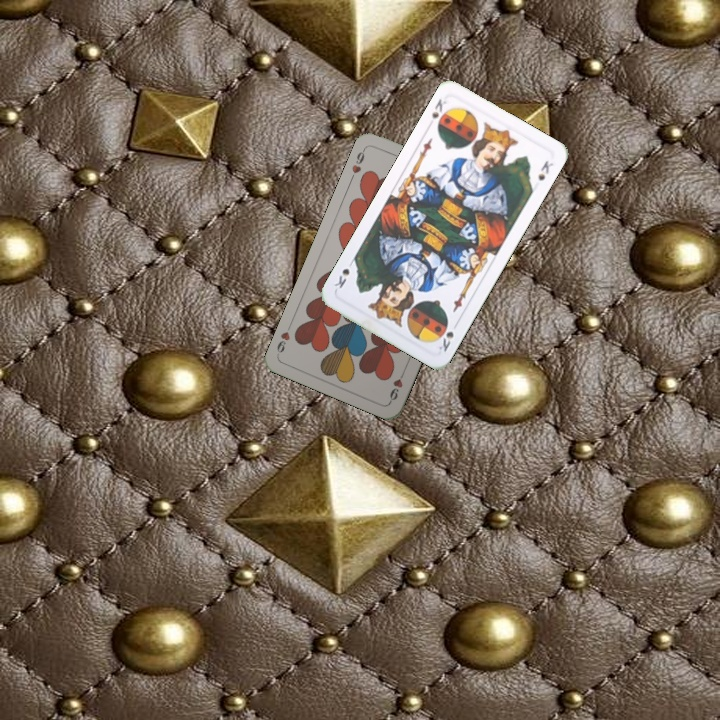H9: (385, 366, 408, 404), (346, 144, 368, 183)
SK: (434, 317, 461, 355), (427, 95, 449, 121)
